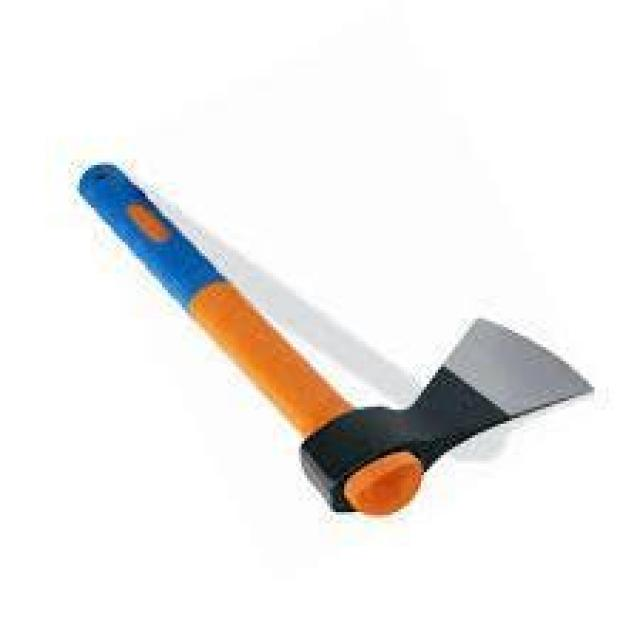Kapak: (66, 126, 594, 542)
